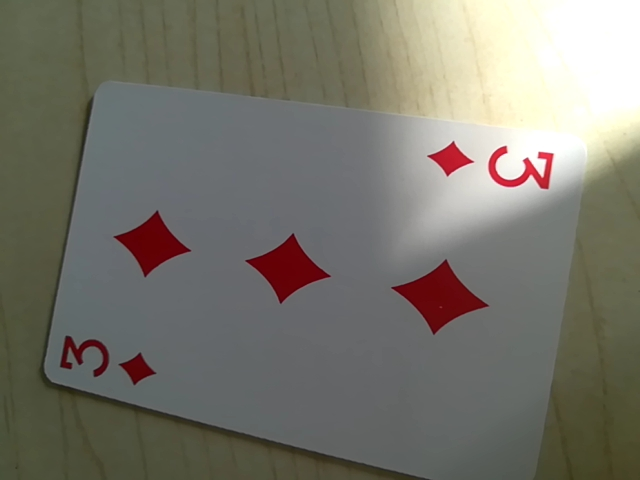fk 3: (417, 134, 561, 197), (51, 323, 157, 395)
